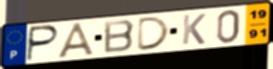0: (214, 8, 242, 45)
A: (55, 21, 98, 59)
B: (103, 18, 137, 54)
D: (135, 15, 172, 52)
K: (180, 13, 208, 46)
P: (25, 24, 61, 63)
